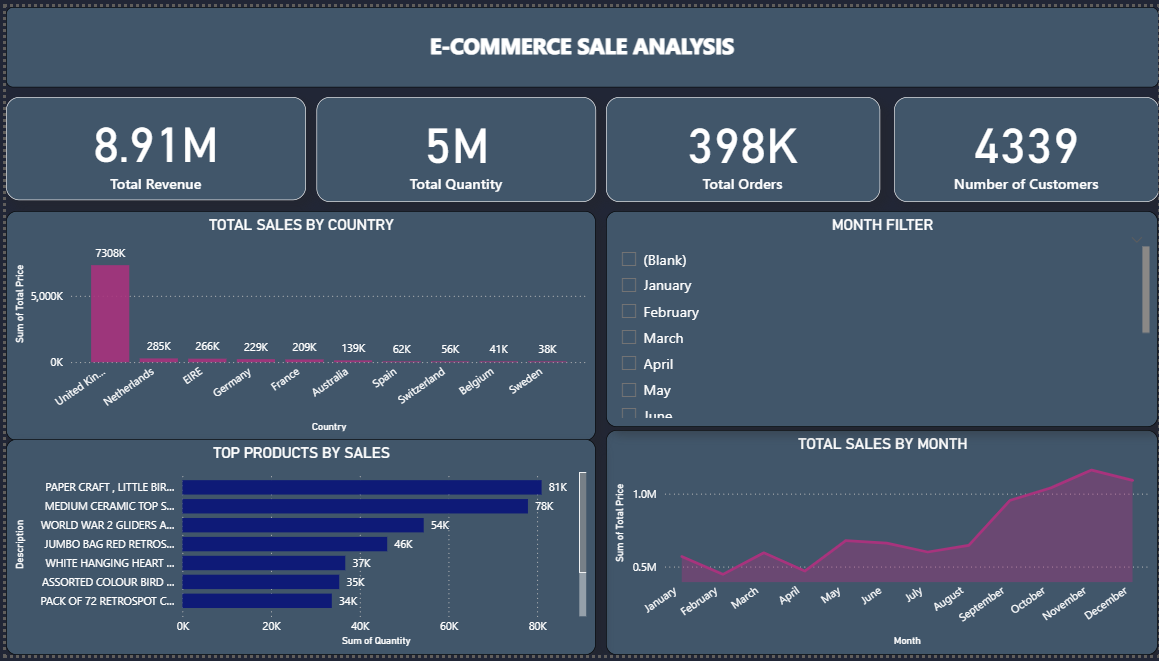

The page's visual inventory and layout, read from the dashboard file:
{"tool":"powerbi","page":{"name":"Page 1","canvas":[1280,720],"ordinal":0},"visuals":[{"type":"card","fields":{"Values":["ecomcleandata.Total Revenue"]},"box":[0,100.4,333.6,115],"z":0},{"type":"card","fields":{"Values":["ecomcleandata.Total Quantity"]},"box":[344.9,100.4,310.9,116.6],"z":1000},{"type":"card","fields":{"Values":["ecomcleandata.Number of Customers"]},"box":[986.1,100.4,294.7,116.6],"z":2000},{"type":"card","fields":{"Values":["ecomcleandata.Total Orders"]},"box":[667.1,100.4,304.4,116.6],"z":3000},{"type":"lineChart","title":"TOTAL SALES BY MONTH","fields":{"Category":["monthly_sales.InvoiceDate.Variation.Date Hierarchy.Month"],"Y":["Sum(monthly_sales.Total Price)"]},"box":[666.7,470,613.3,250],"z":4000},{"type":"columnChart","title":"TOTAL SALES BY COUNTRY","fields":{"Category":["top_country.Country"],"Y":["Sum(top_country.Total Price)"]},"box":[0,226.7,655,255],"z":5000},{"type":"textbox","box":[0,0,1280.8,89.1],"z":6000},{"type":"barChart","title":"TOP PRODUCTS BY SALES","fields":{"Category":["top_products.Description"],"Y":["Sum(top_products.Quantity)"]},"box":[0,480,655,240],"z":7000},{"type":"slicer","title":"MONTH FILTER","fields":{"Values":["monthly_sales.InvoiceDate.Variation.Date Hierarchy.Month"]},"box":[666.7,226.7,613.3,240],"z":8000}]}

Visuals, with their boxes in screenshot pixels (x1, y1, x2, y2), scaled from the page's 1280x720 canvas onto the 1159x661 screenshot:
card - ecomcleandata.Total Revenue: {"left": 0, "top": 92, "right": 302, "bottom": 198}
card - ecomcleandata.Total Quantity: {"left": 312, "top": 92, "right": 594, "bottom": 199}
card - ecomcleandata.Number of Customers: {"left": 893, "top": 92, "right": 1158, "bottom": 199}
card - ecomcleandata.Total Orders: {"left": 604, "top": 92, "right": 880, "bottom": 199}
"TOTAL SALES BY MONTH" lineChart: {"left": 604, "top": 431, "right": 1158, "bottom": 660}
"TOTAL SALES BY COUNTRY" columnChart: {"left": 0, "top": 208, "right": 593, "bottom": 442}
textbox: {"left": 0, "top": 0, "right": 1158, "bottom": 82}
"TOP PRODUCTS BY SALES" barChart: {"left": 0, "top": 441, "right": 593, "bottom": 660}
"MONTH FILTER" slicer: {"left": 604, "top": 208, "right": 1158, "bottom": 428}
